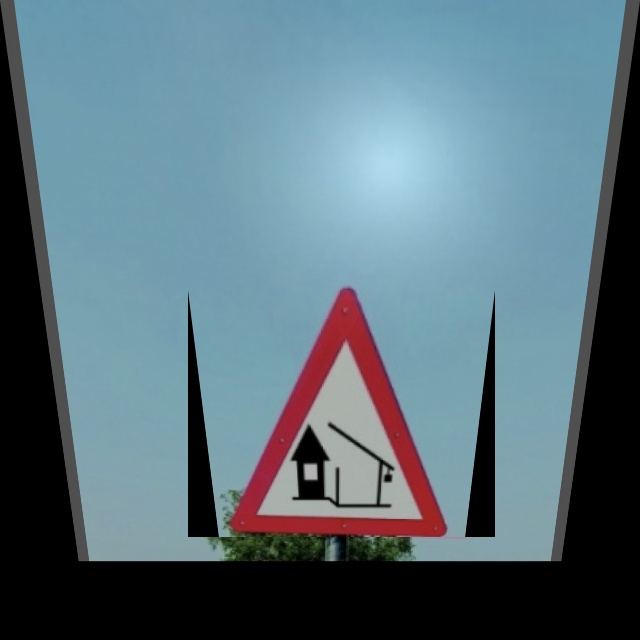Barrier_Ahead: (188, 290, 495, 537)
